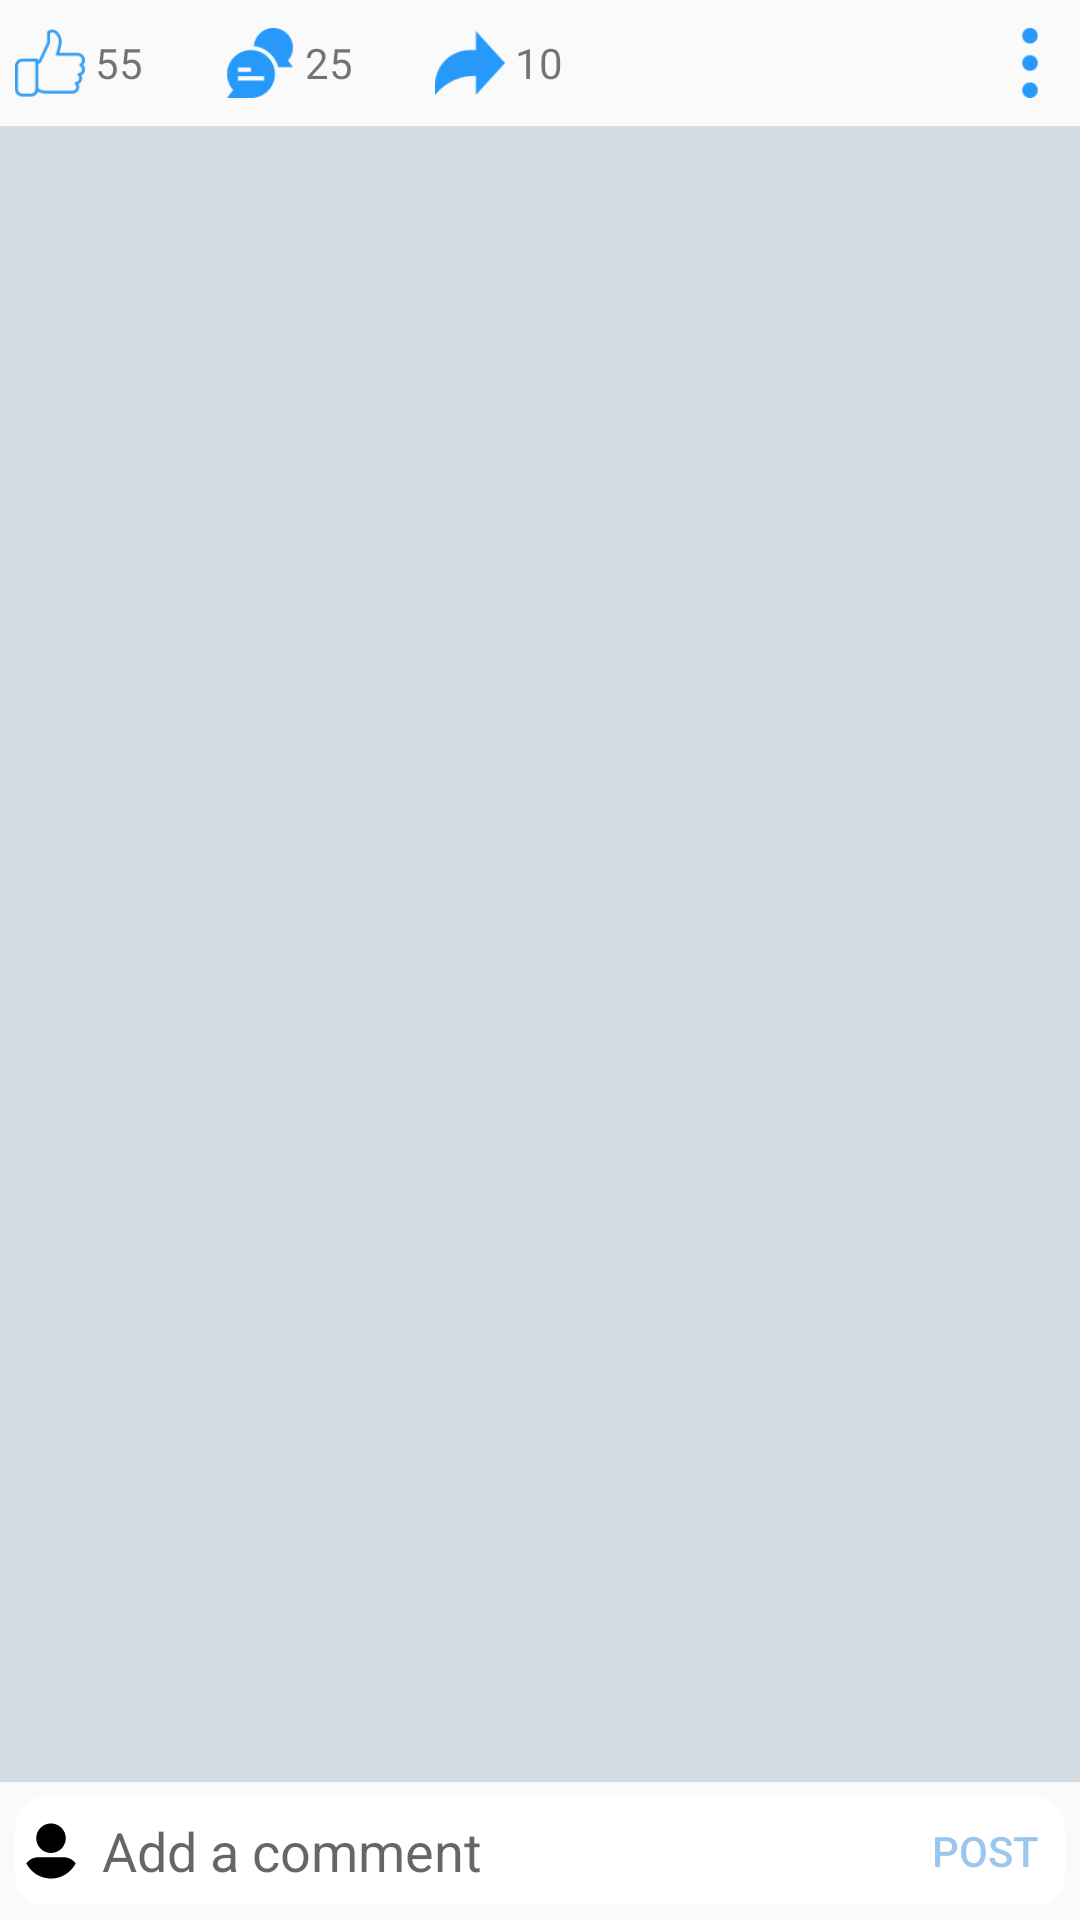

Where to tap for icons on this 1080px×1920px app screen, as (x=x, y=y):
comments: (x=260, y=63)
likable: (x=50, y=63)
more: (x=1030, y=63)
share: (x=470, y=63)
